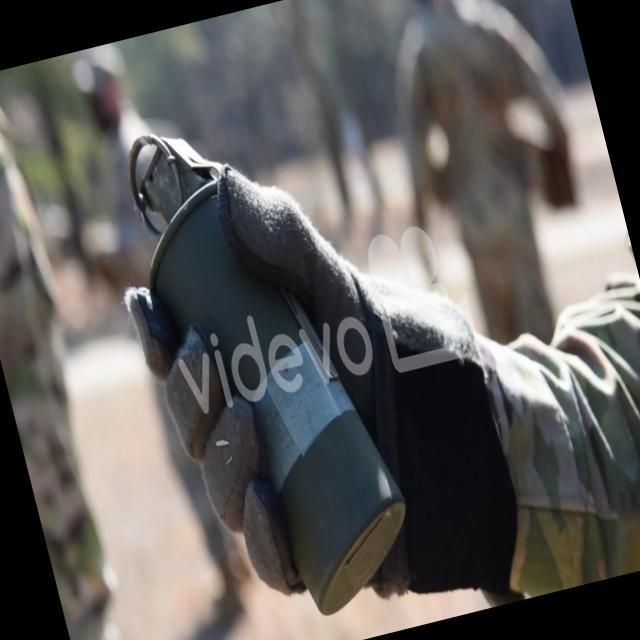grenade: (109, 93, 429, 640)
